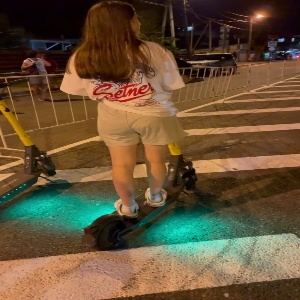human on a scooter: (59, 1, 203, 251)
